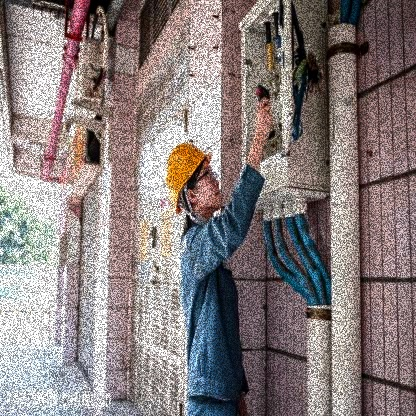yellow: (162, 138, 214, 221)
